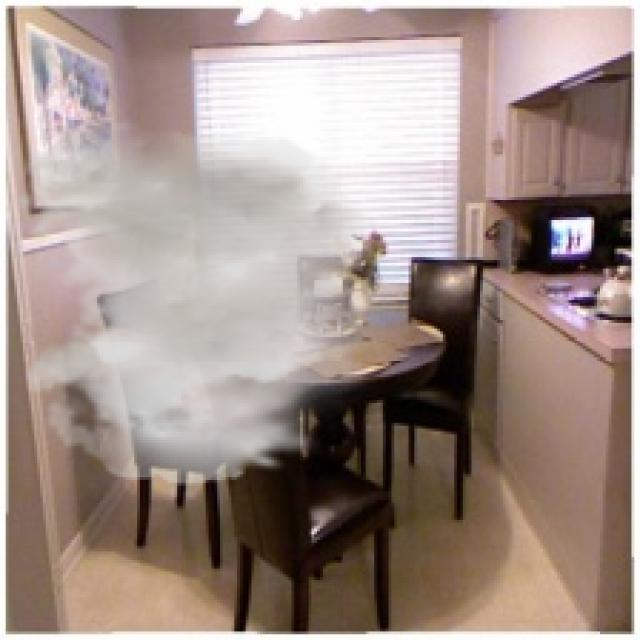smoke: (11, 117, 428, 486)
